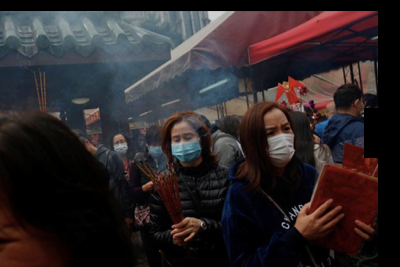with_mask: (265, 121, 297, 168), (170, 131, 202, 166), (112, 137, 129, 157), (149, 143, 165, 159)
